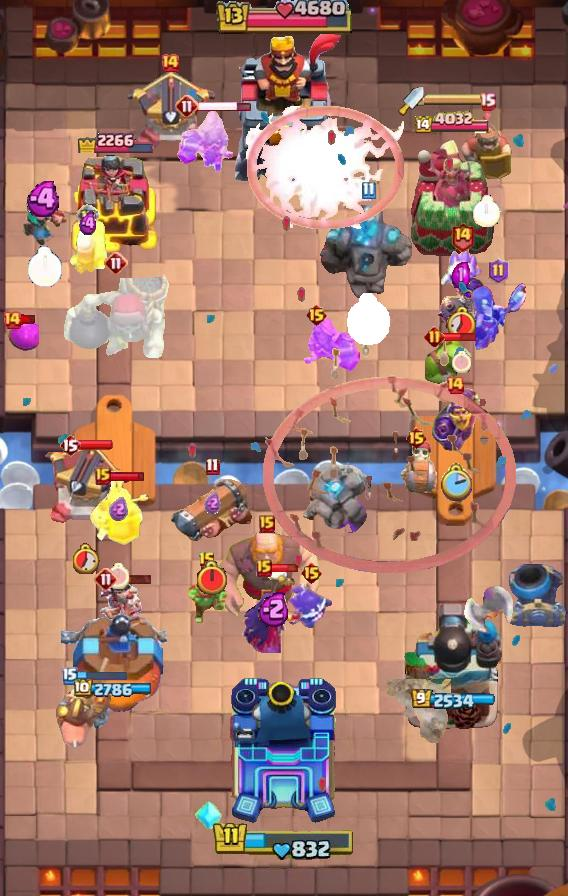axe: (460, 586, 514, 646)
bar: (197, 100, 252, 113), (76, 670, 128, 681), (116, 573, 153, 585), (78, 439, 114, 451), (443, 331, 478, 343), (109, 471, 146, 482), (269, 563, 301, 573), (20, 314, 37, 325)
bar-level: (450, 221, 475, 252), (94, 567, 118, 591), (104, 251, 128, 275), (76, 204, 100, 228), (175, 94, 199, 118), (300, 561, 323, 585), (405, 426, 428, 450), (305, 303, 328, 327), (488, 258, 509, 284), (59, 433, 81, 457), (424, 326, 445, 347), (445, 375, 465, 395), (2, 310, 22, 330), (160, 53, 180, 73), (198, 551, 216, 571), (479, 92, 496, 111), (62, 667, 78, 685), (256, 559, 272, 577), (259, 515, 275, 533), (95, 467, 111, 485), (205, 457, 220, 476), (361, 181, 376, 200)
bomber-evolution: (436, 276, 486, 330)
cannoneer-tower: (403, 601, 503, 731)
clock: (346, 293, 391, 346), (27, 246, 63, 288), (195, 560, 229, 597), (439, 463, 472, 501), (445, 305, 479, 341), (473, 195, 501, 227), (73, 543, 100, 574), (107, 563, 129, 589), (452, 351, 471, 373)
dagger-duchess-tower: (409, 138, 497, 256)
dagger-duchess-tower-bar: (424, 93, 496, 107)
dirt: (387, 679, 451, 748)
electro-spirit: (287, 581, 335, 629)
elixir: (26, 181, 64, 217), (258, 590, 291, 627), (79, 211, 98, 236), (452, 262, 470, 288), (109, 497, 128, 521), (204, 492, 221, 514)
elixir-golem-small: (7, 321, 39, 351)
firecracker: (67, 218, 109, 276)
goblin-brawler: (417, 337, 479, 393)
golemite: (301, 465, 371, 533)
ice-spirit-evolution: (440, 244, 484, 298)
ice-spirit-evolution-symbol: (195, 798, 223, 832)
king-tower: (223, 31, 345, 181), (228, 676, 340, 826)
king-tower-bar: (212, 820, 356, 862), (214, 0, 354, 37)
knight-evolution: (431, 387, 480, 452)
mortar: (508, 563, 568, 627)
night-witch: (467, 281, 529, 353)
princess: (98, 575, 142, 635)
queen-tower: (61, 603, 167, 731), (69, 154, 159, 256)
rascal-girl: (22, 198, 68, 248)
royal-recruit: (87, 472, 149, 548), (460, 113, 514, 181)
spear-goblin: (186, 575, 228, 627)
tower-bar: (75, 127, 154, 153), (415, 111, 492, 136), (411, 689, 496, 711), (74, 679, 154, 699)
valkyrie-evolution: (175, 110, 235, 176), (302, 315, 360, 375)
wall-breaker: (391, 440, 441, 496)
witch: (242, 565, 306, 653)
